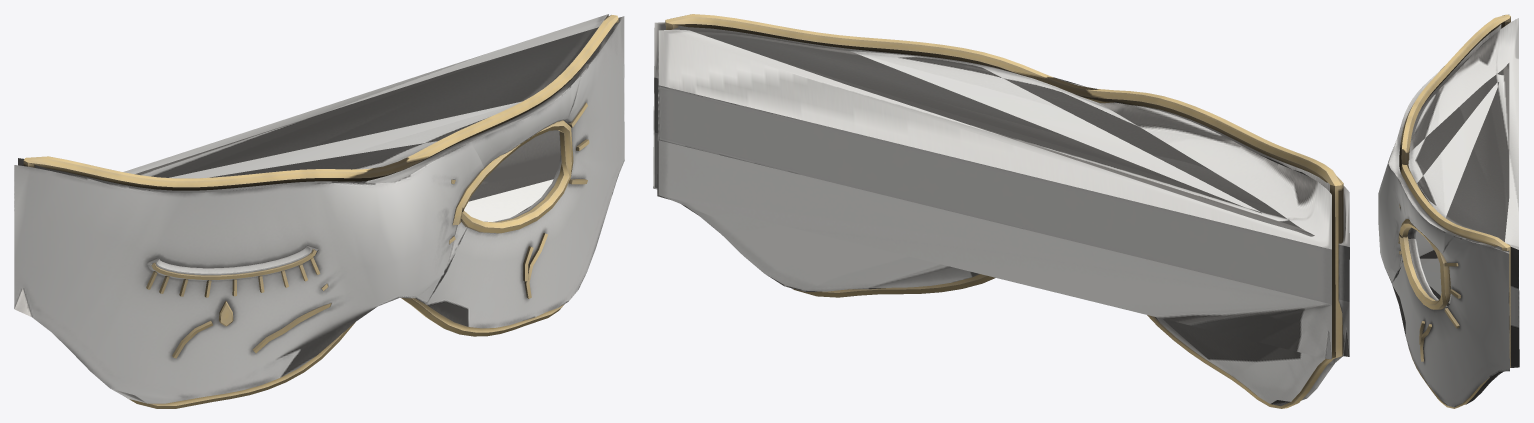
The model's file is NHAcc_ObserverMask.fbx.
3 views of the same model, side by side, from view 1: azimuth 30°, elevation 25°; view 2: azimuth 150°, elevation 25°; view 3: azimuth 270°, elevation 25° (orthographic). The views are drawn at different scales.
Visible parts, largest first — view 1: ObserverMask; view 2: ObserverMask; view 3: ObserverMask.
Part boxes in pixels (x1,y1,x2,y2): ObserverMask: (14, 14, 624, 408); ObserverMask: (653, 14, 1349, 408); ObserverMask: (1378, 14, 1519, 408).
Size of the model in its own units: 0.8589 by 0.3338 by 0.2135.
